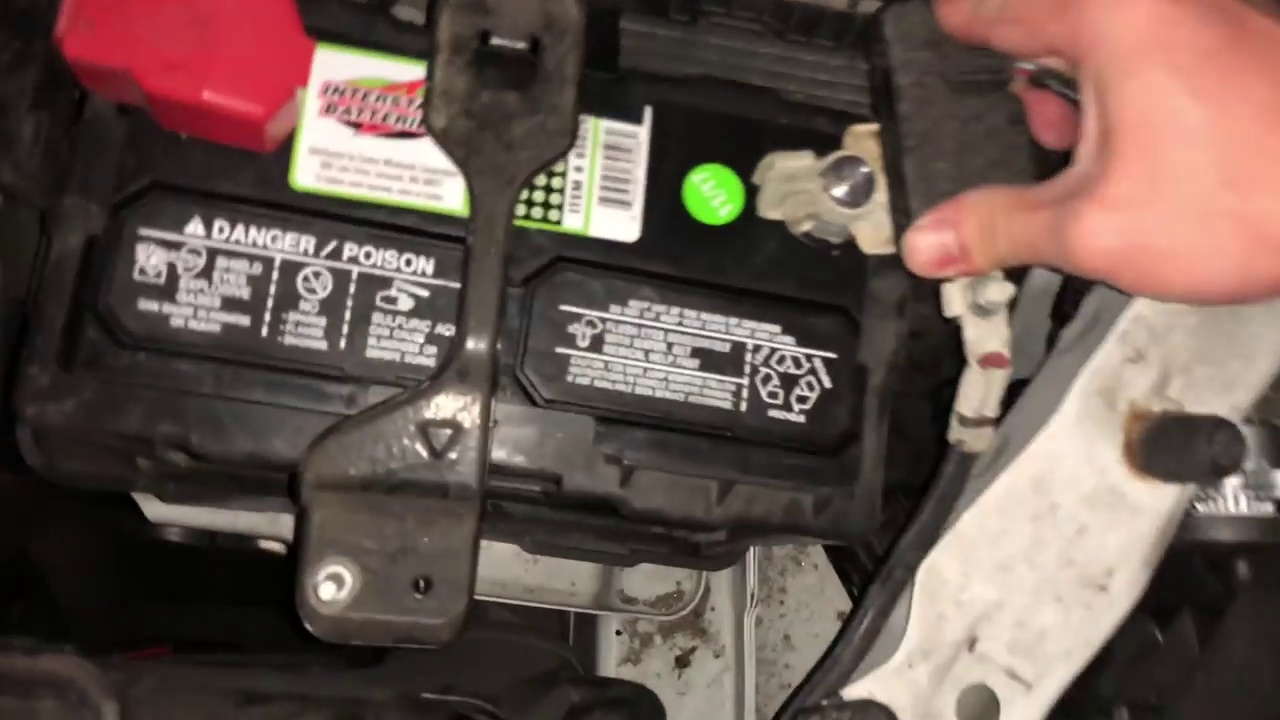battery: (68, 1, 908, 496)
neg_connected: (724, 112, 889, 270)
neg_touched: (751, 98, 1078, 305)
pos_connected: (27, 1, 319, 150)
